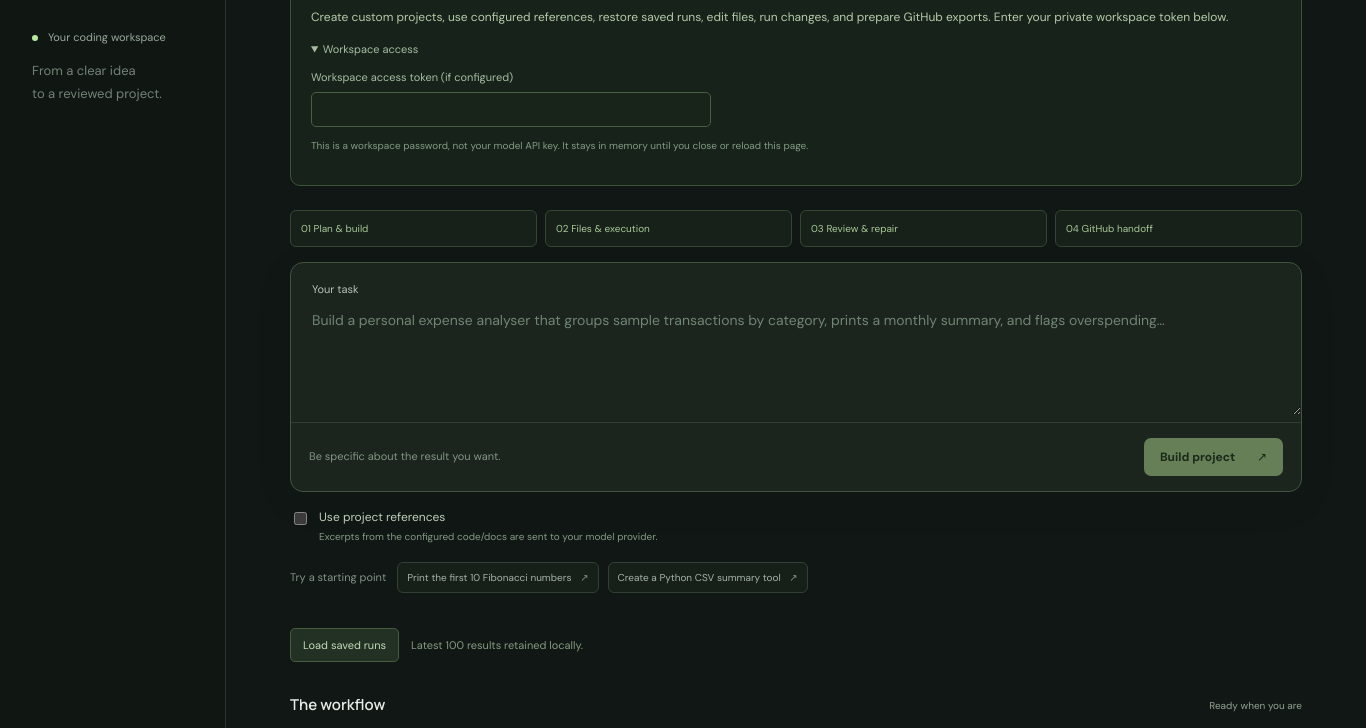
Test: owner can run edits without pretending they were AI reviewed
(page scrolled)
Step 1. Type "Print hello" into the text box labelled "Your task" → coordinates (796, 357), box top-left (291, 299), bottom-right (1301, 414)
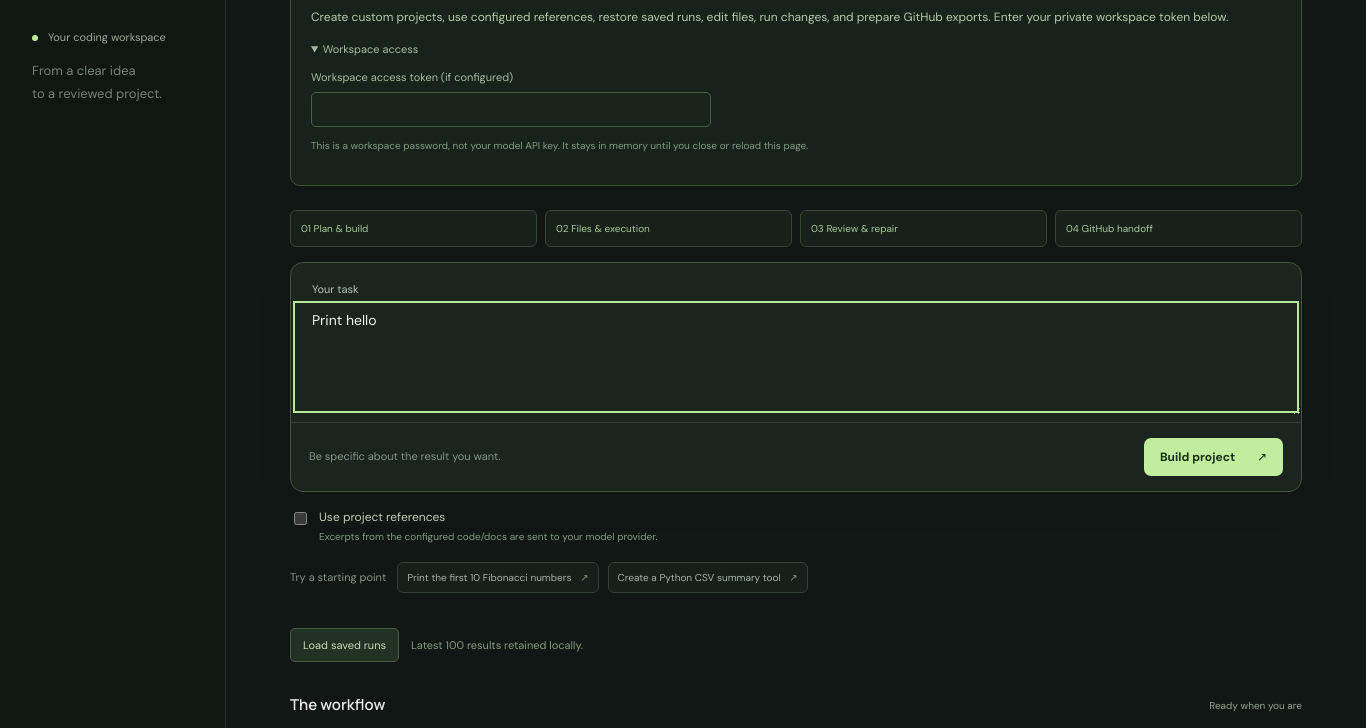
Step 2. Click the button "Build project ↗" → coordinates (1214, 456), box top-left (1144, 438), bottom-right (1283, 476)
(page scrolled)
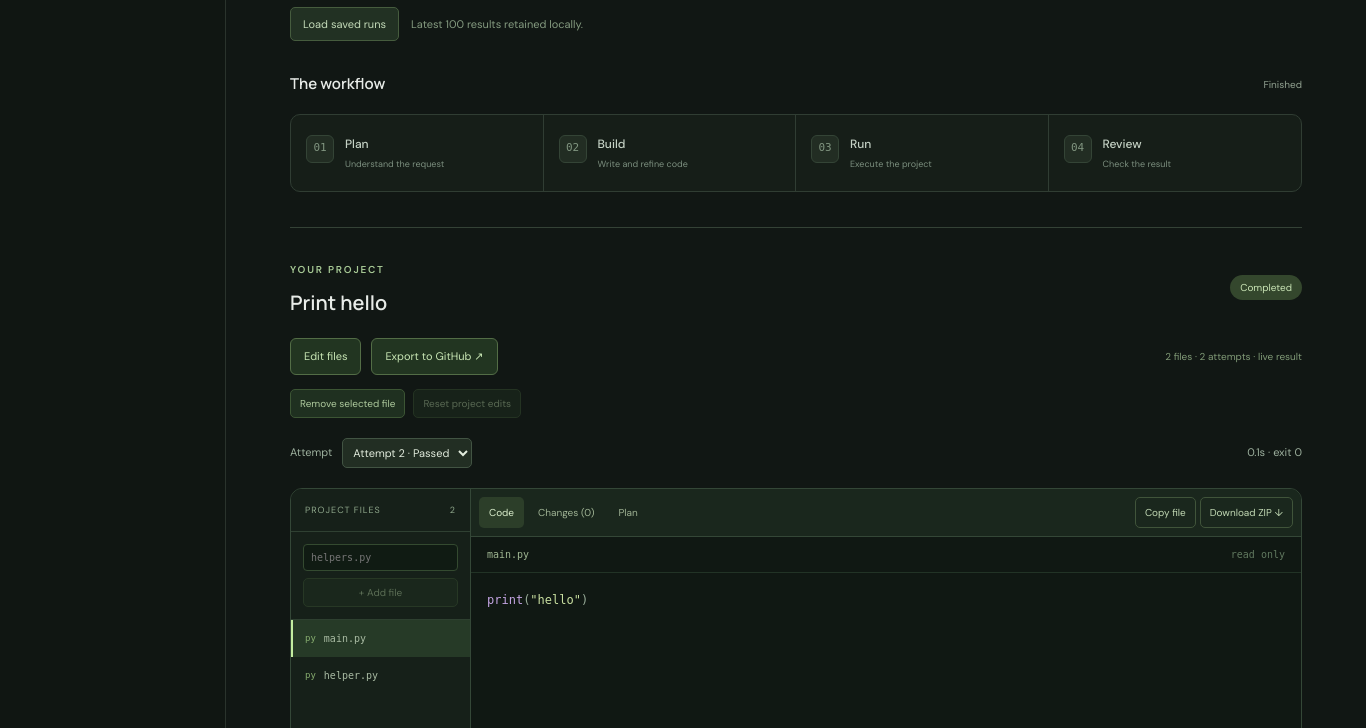
Step 3. Click the button "Edit files" → coordinates (326, 356), box top-left (290, 338), bottom-right (361, 374)
(page scrolled)
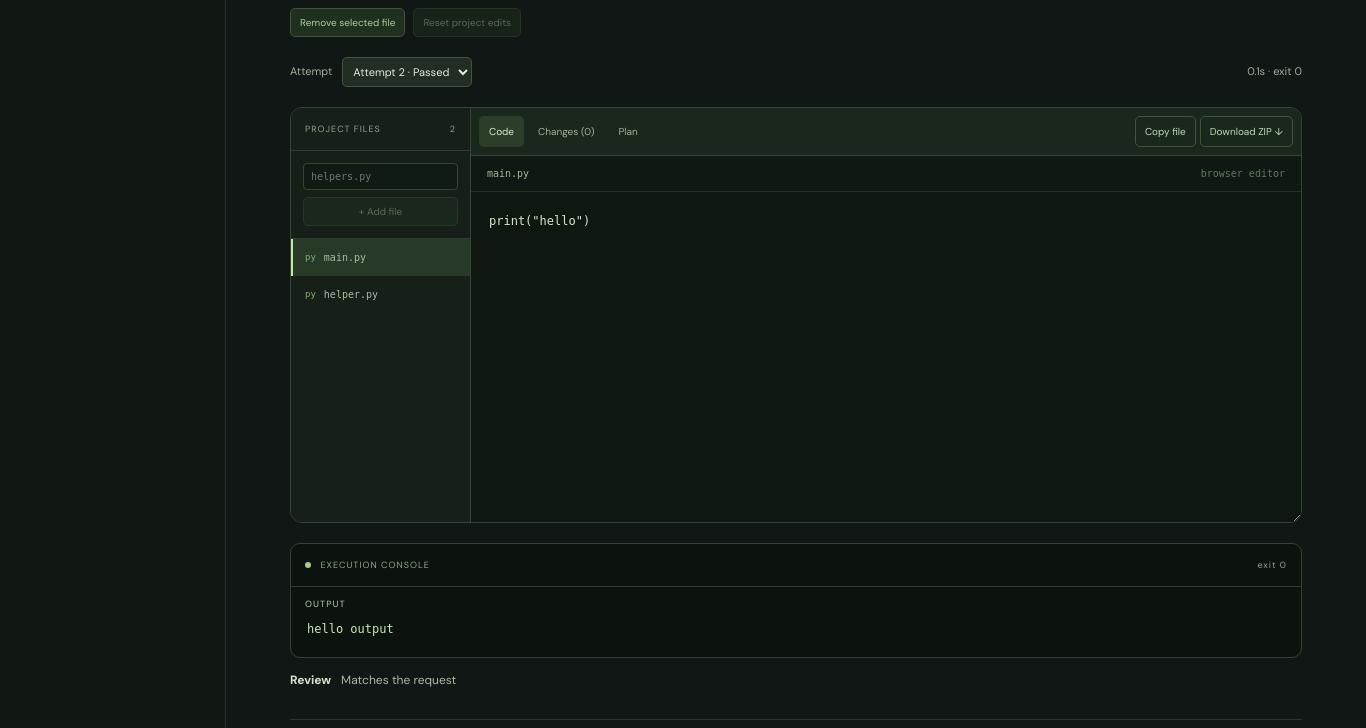
Step 4. Clear the text box named "Edit file contents" → coordinates (886, 356), box top-left (471, 192), bottom-right (1301, 522)
(page scrolled)
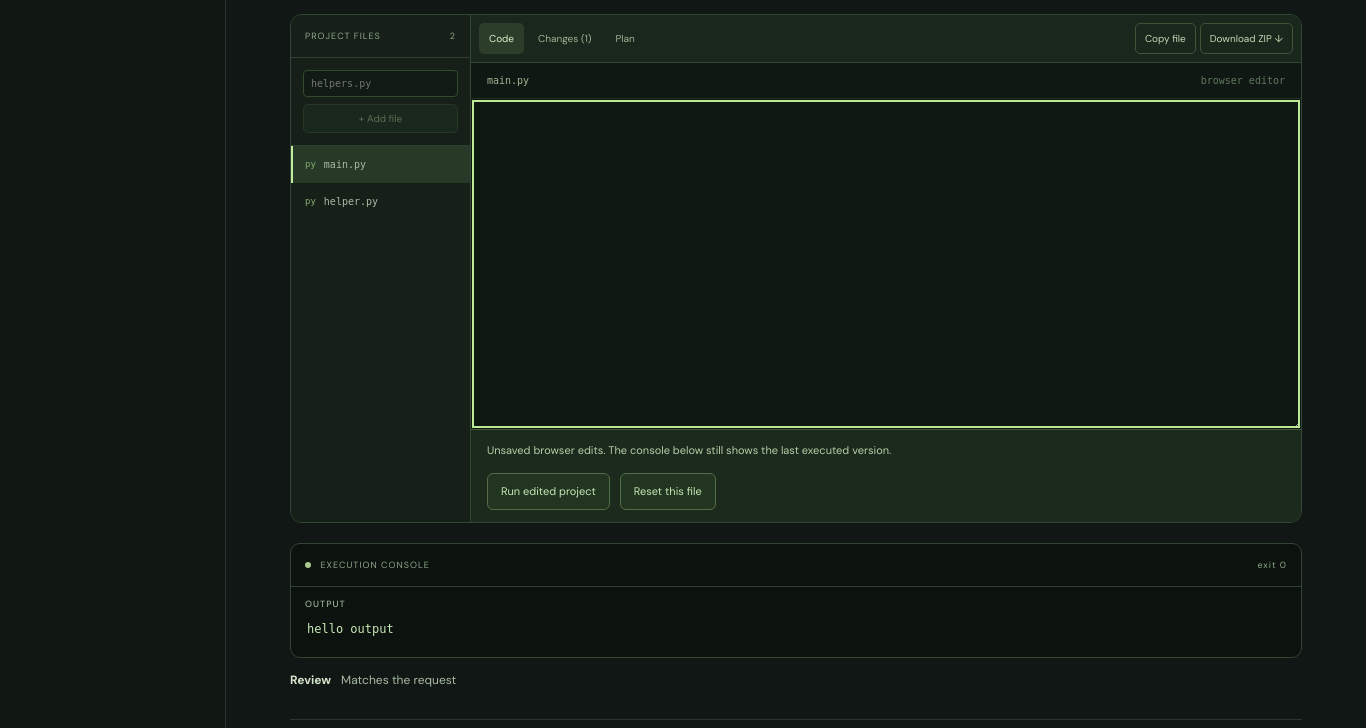
Step 5. Type "print(7)" into the text box named "Edit file contents" → coordinates (886, 264), box top-left (471, 98), bottom-right (1301, 428)
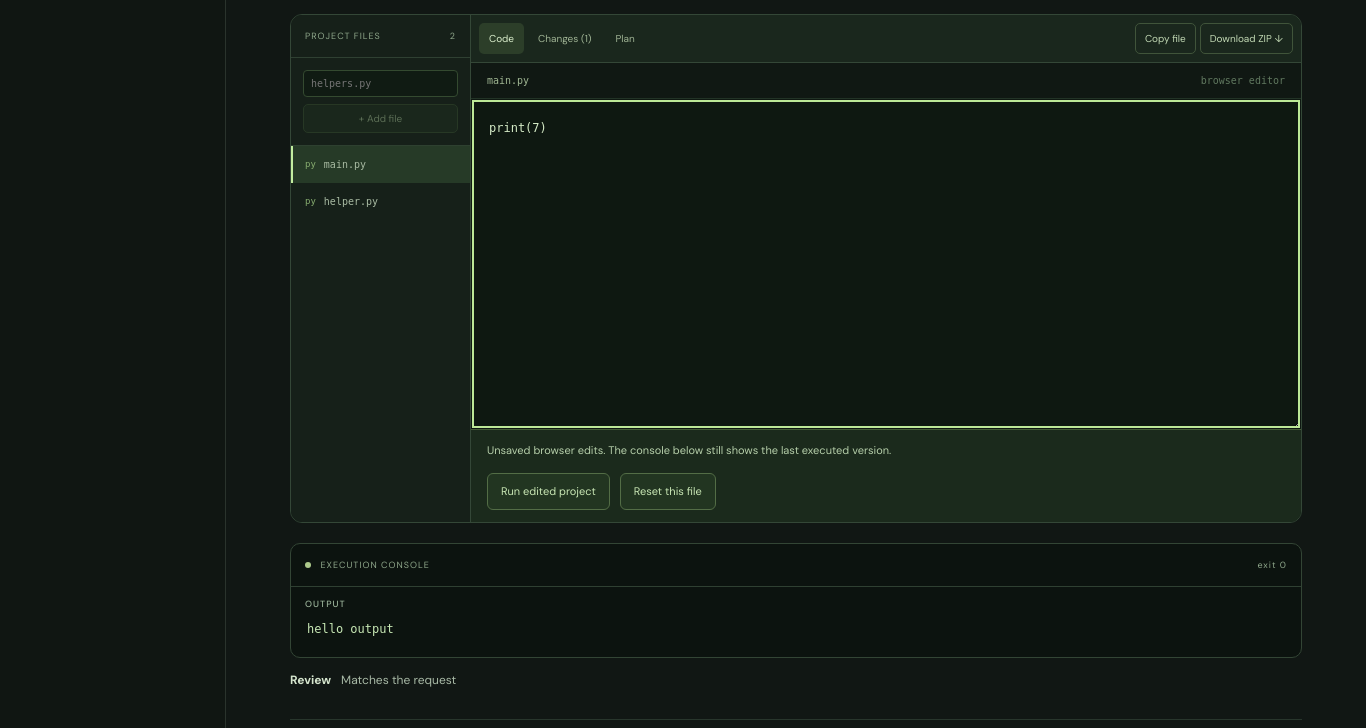
Step 6. Click the button "Run edited project" → coordinates (548, 491), box top-left (487, 473), bottom-right (610, 510)
(page scrolled)
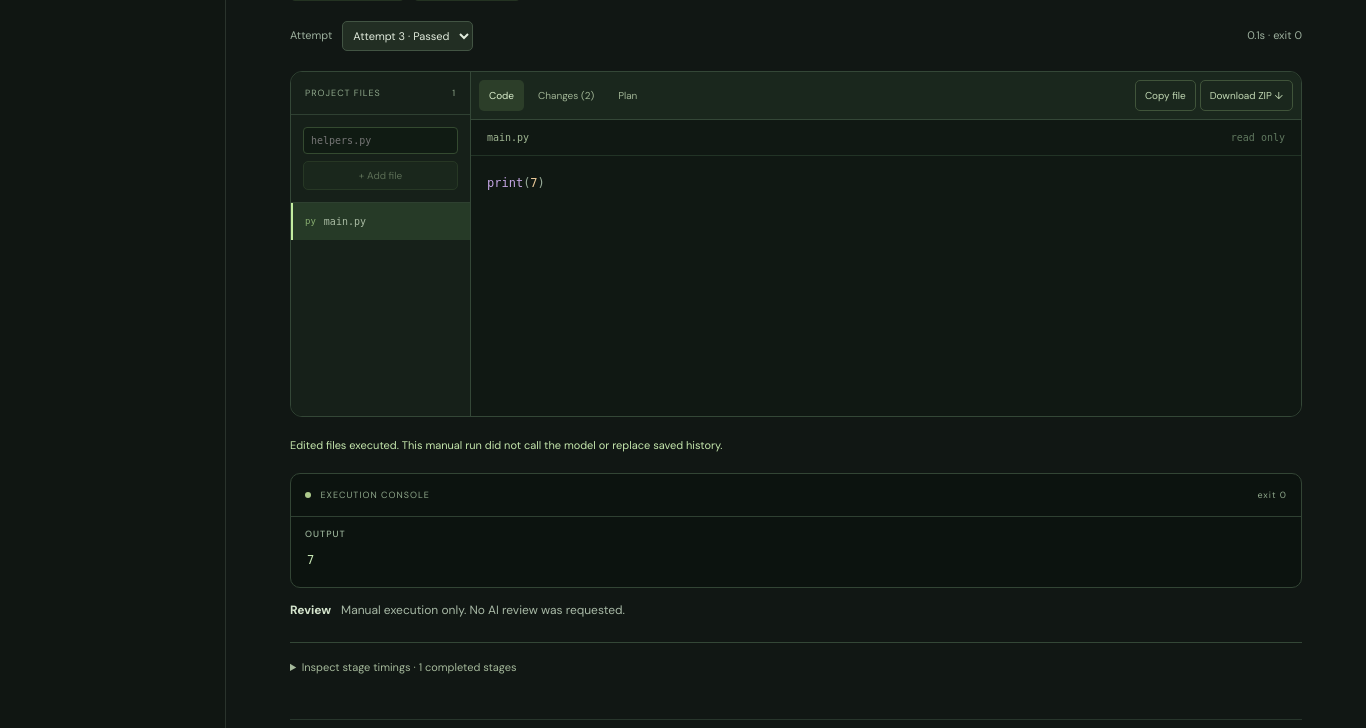
Expected: the text "Manual execution only. No AI review was requested." is shown, top-left (341, 602), bottom-right (625, 618)
